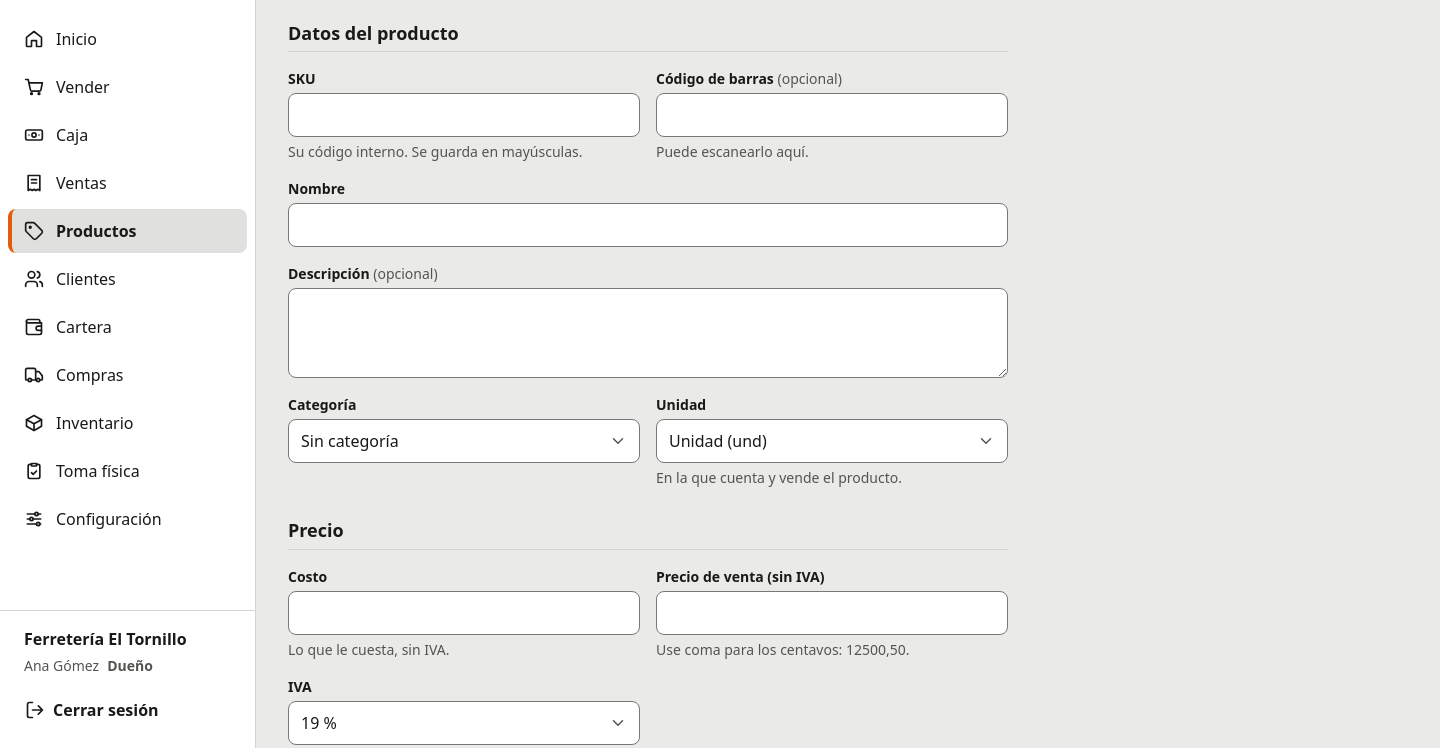
Test: ProductFormPage: precio con IVA y margen › cambia con la tasa de IVA elegida
Type "10000" into the field labelled "Precio de venta (sin IVA)". click: point(832, 613)
box: [656,591,1008,635]
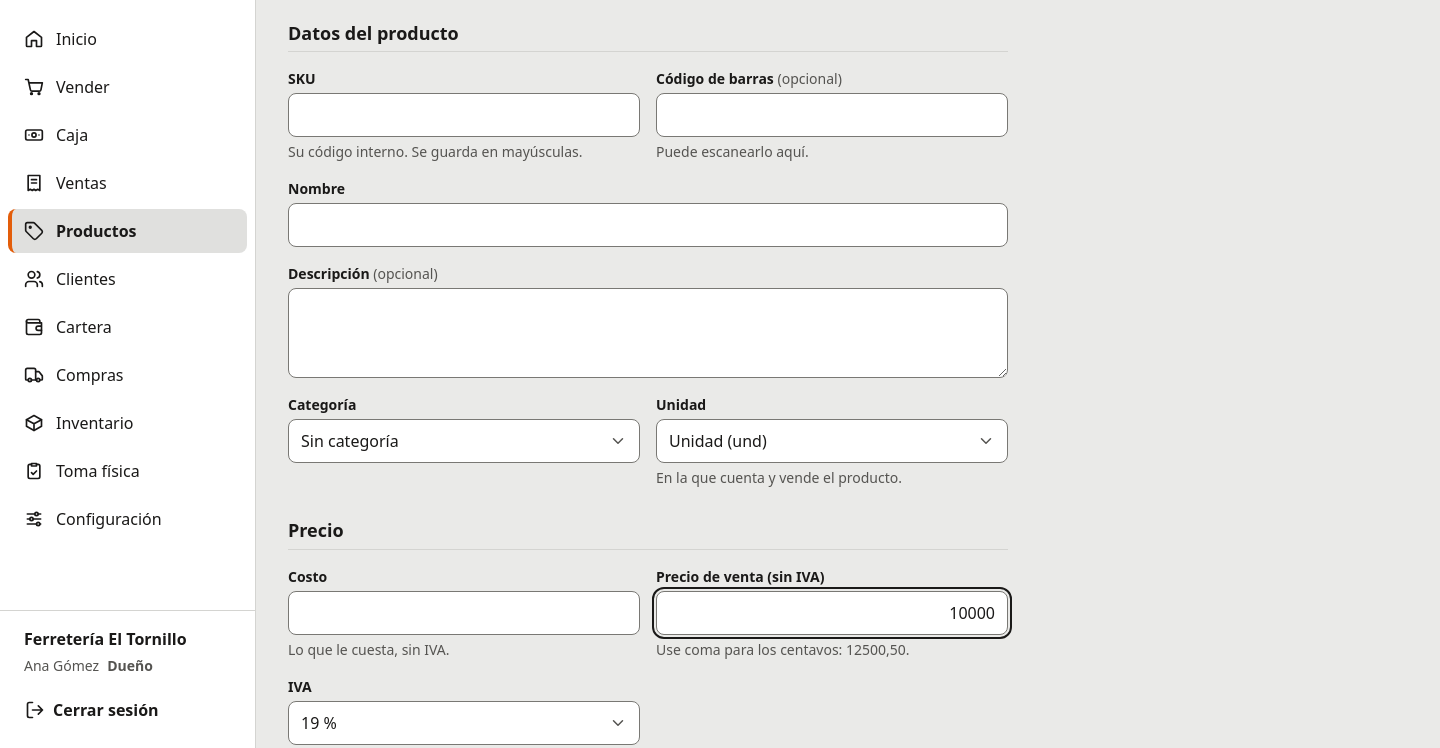
Click the dropdown named "IVA". click: point(319, 723)
box: [288,701,640,745]
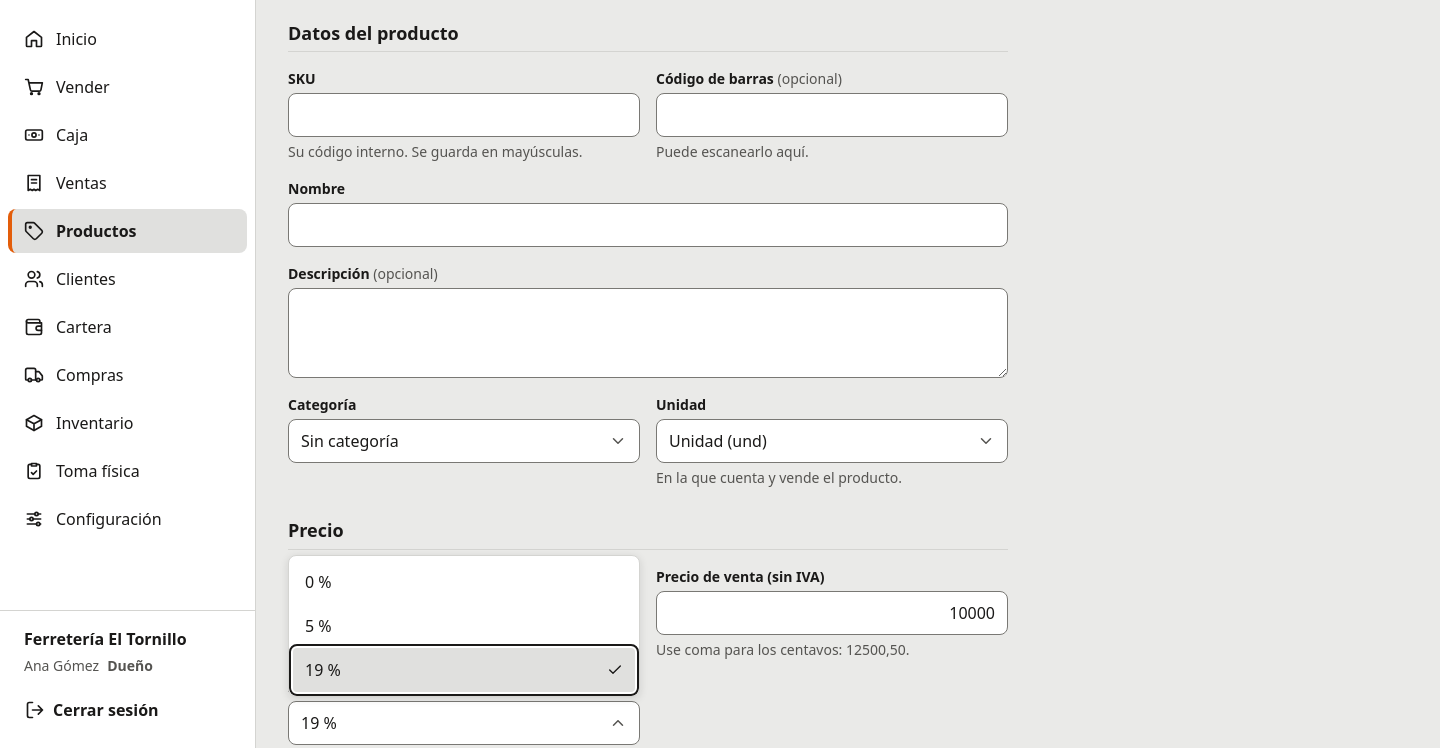
Click the option "5 %". click: point(318, 626)
box: [305,615,332,637]
(page scrolled)
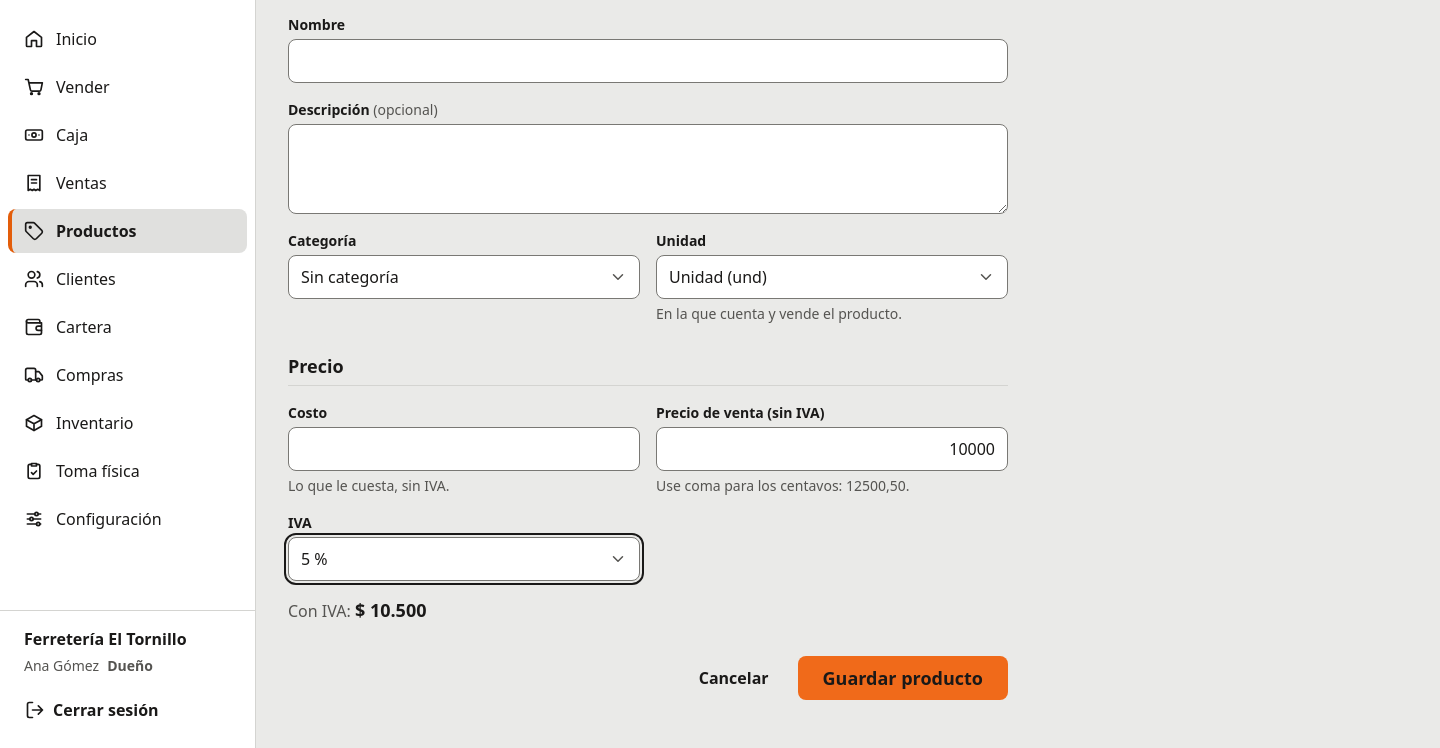
Now the element named "Con IVA y margen" reads "Con IVA: $ 10.500", box [288,598,426,622]
